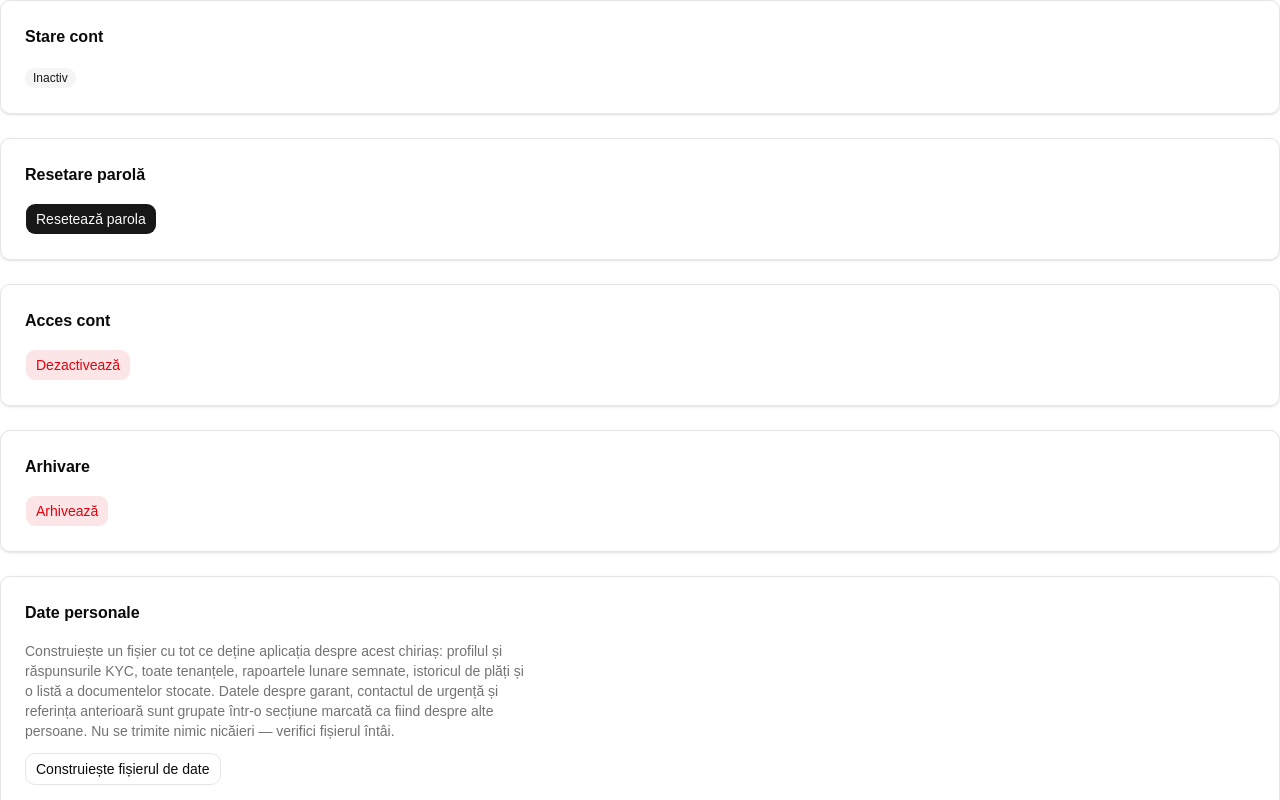
Test case: AccountTab — Archive guard (Bogdan’s state machine, M3-D) › shows an error message instead of crashing when the archive callable fails
This screenshot has width=1280, height=800.
Step 1. Click the button "Arhivează" → (67, 511), box [25, 495, 109, 527]
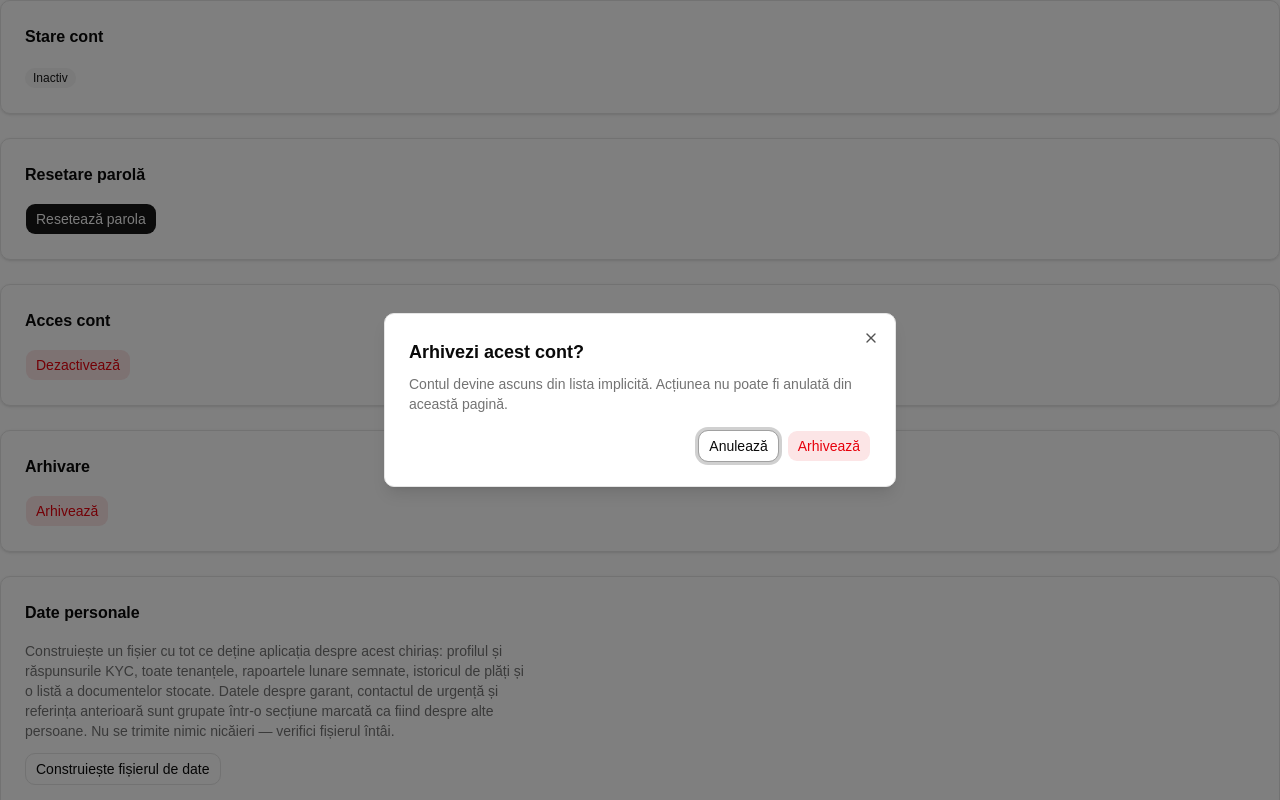
Step 2. Click the button "Arhivează" → (829, 446), box [787, 430, 871, 462]
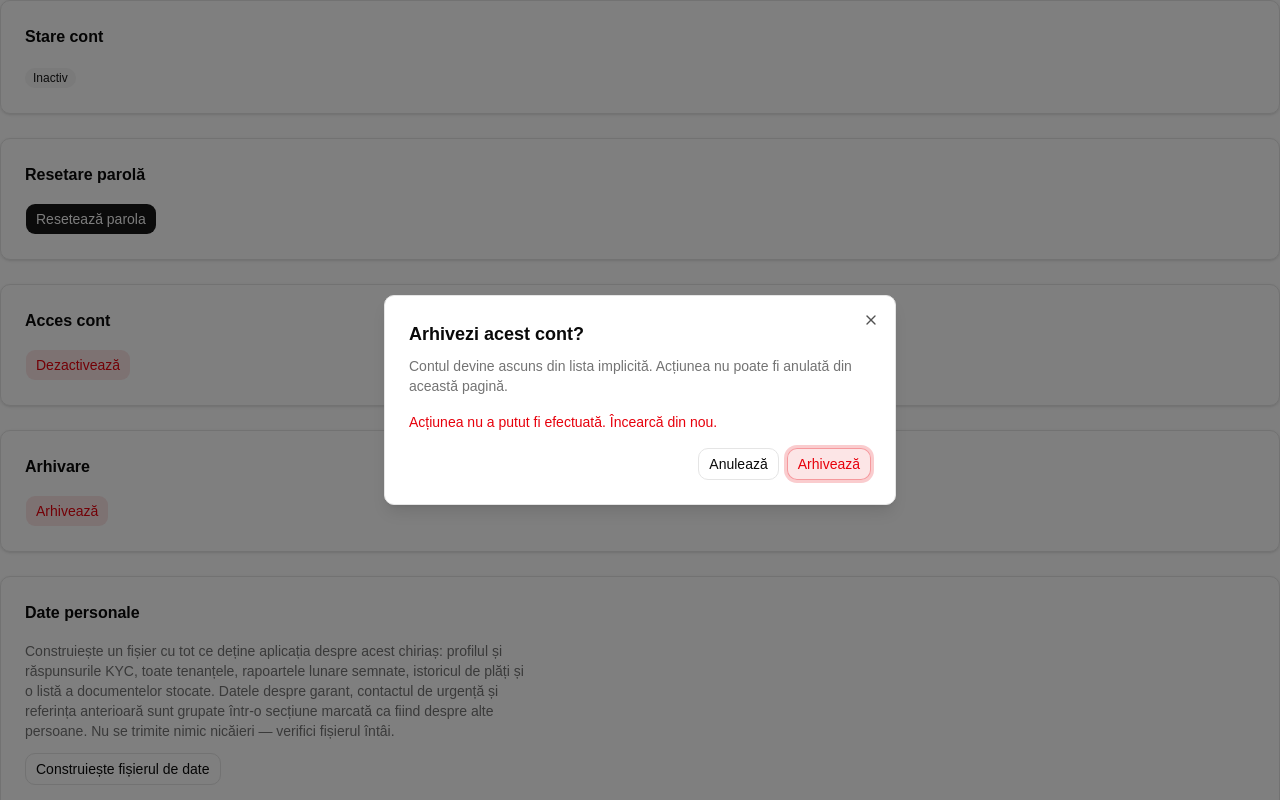
Now the text "Acțiunea nu a putut fi efectuată. Încearcă din nou." is shown, box [409, 414, 717, 430]
